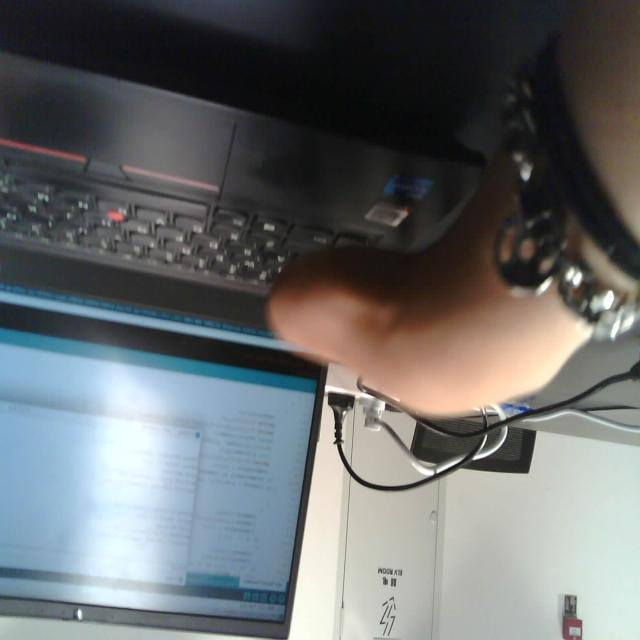keyboard-with-hands: (0, 46, 488, 324)
